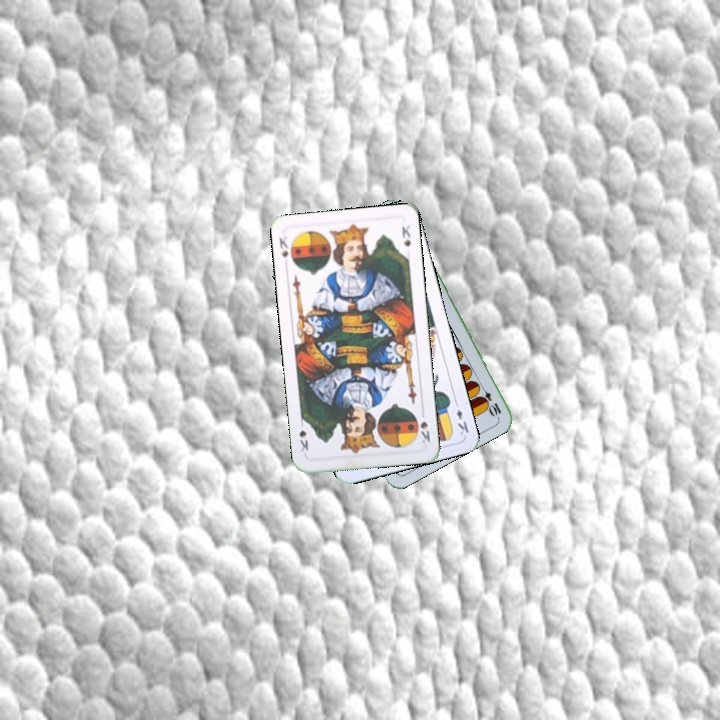E10: (475, 381, 504, 418)
EK: (450, 397, 471, 438)
SK: (416, 417, 433, 446), (275, 232, 291, 260)
